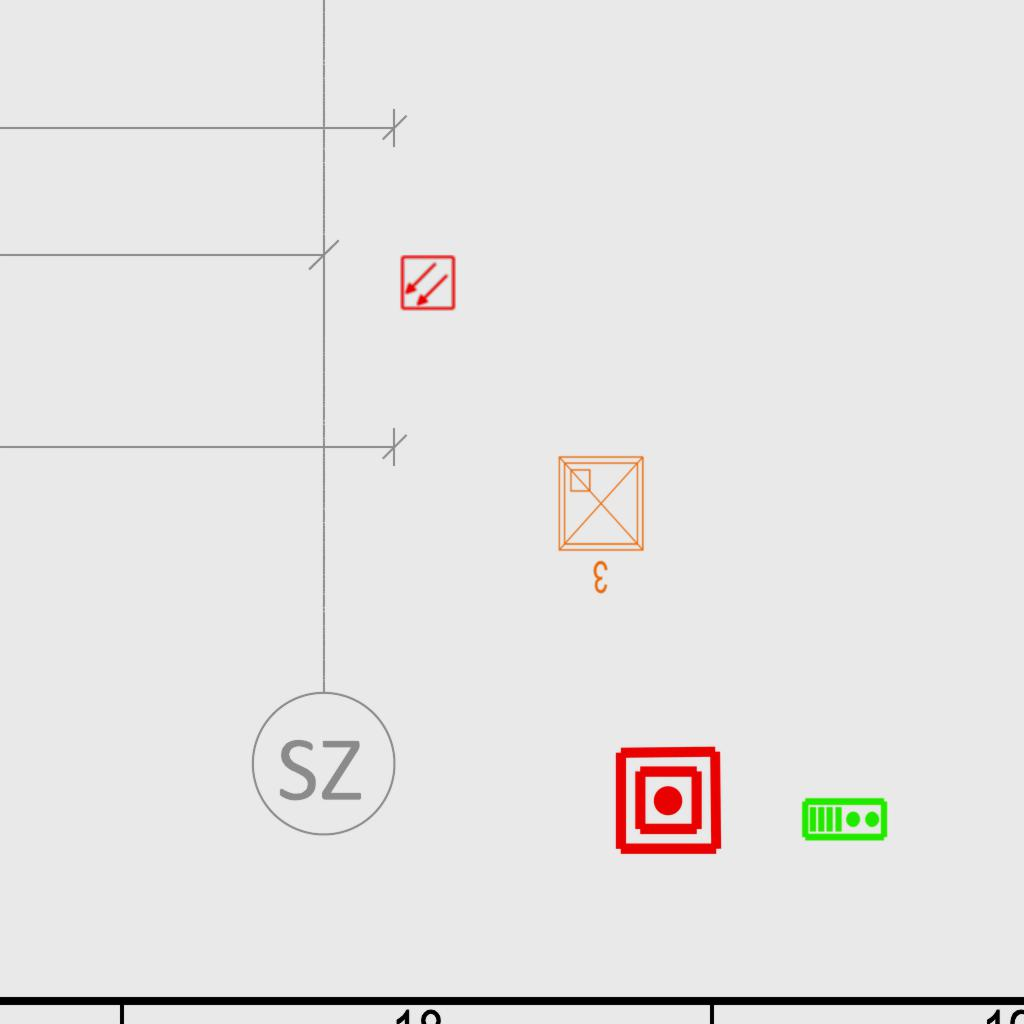Einbaudownlights_LED_Konferenzraeume: (551, 449, 655, 599)
Gegensprechanlage_mit_Video: (801, 795, 889, 842)
NAM-Nichtautomatischer_Melder: (612, 744, 725, 857)
RMO_Rauchmelder_optischer: (400, 255, 456, 311)
